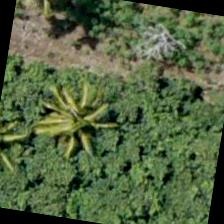Kelapa_Sawit: (18, 75, 120, 178), (0, 91, 56, 189)
